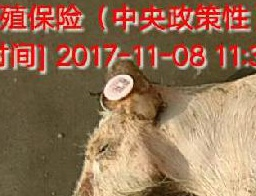text: (91, 64, 147, 107)
